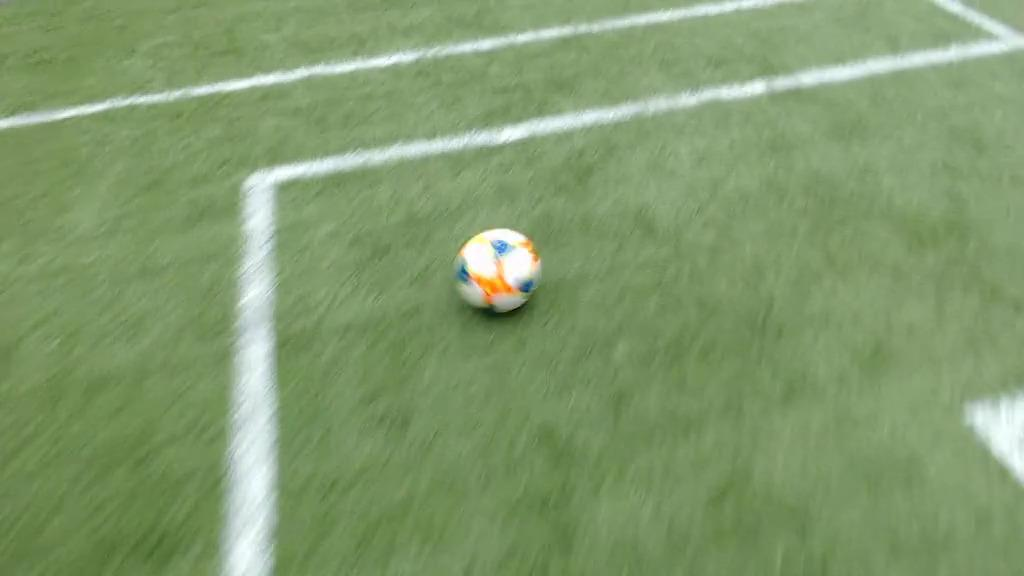ball: (454, 230, 539, 315)
